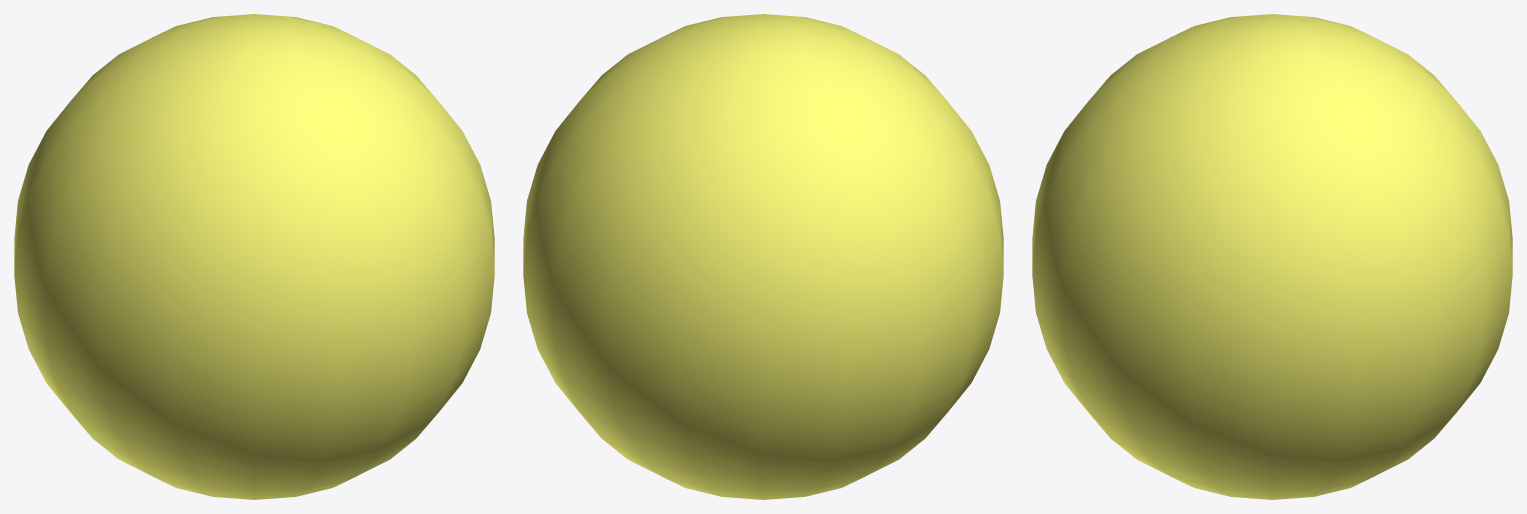
The model's file is GlassShell.fbx.
The picture shows the model from 3 angles, left to right: view 1: azimuth 30°, elevation 25°; view 2: azimuth 150°, elevation 25°; view 3: azimuth 270°, elevation 25°; orthographic projection.
Visible parts, largest first — view 1: polySurface8; view 2: polySurface8; view 3: polySurface8.
Part boxes in pixels (x1,y1,x2,y2): polySurface8: (14, 14, 494, 499); polySurface8: (523, 14, 1003, 499); polySurface8: (1032, 14, 1512, 499).
Bounding box in the file's own units: 0.3368 × 0.3385 × 0.3317.
